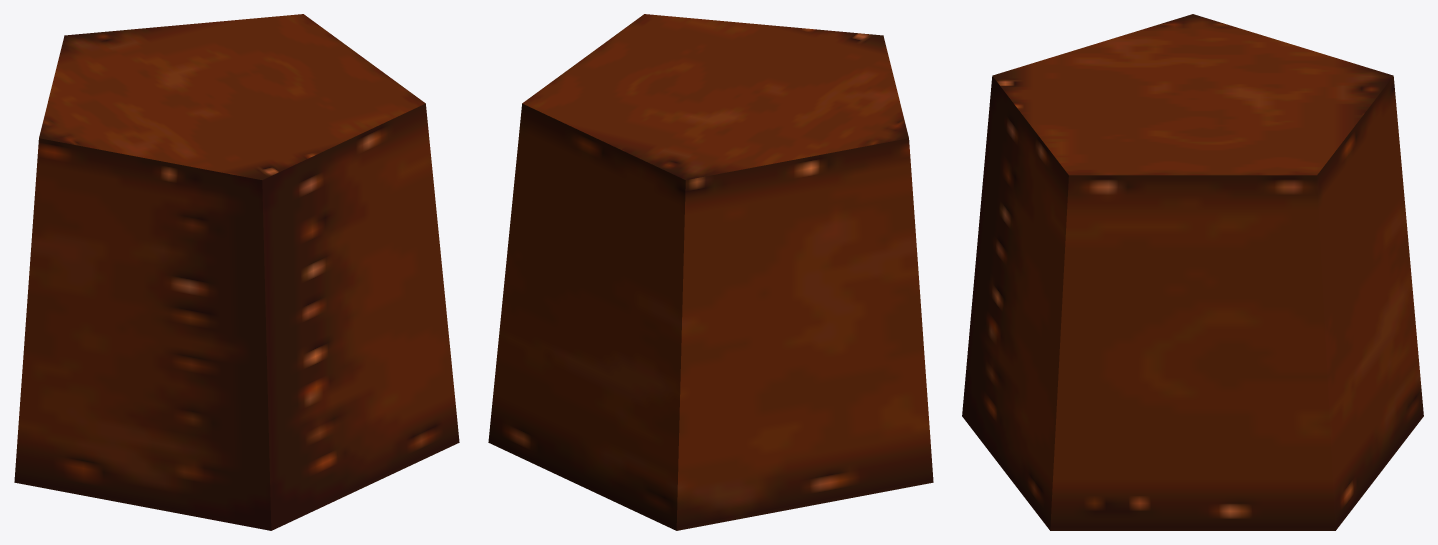
The model's file is Statue_Pan_Sockel_2793.glb.
The picture shows the model from 3 angles, left to right: view 1: azimuth 30°, elevation 25°; view 2: azimuth 150°, elevation 25°; view 3: azimuth 270°, elevation 25°; orthographic projection.
Parts seen in each view (by area): view 1: pCylinderShape22; view 2: pCylinderShape22; view 3: pCylinderShape22.
Boxes of the visible parts, box(x1,y1,x2,y2) form: pCylinderShape22: box(14, 14, 459, 530); pCylinderShape22: box(488, 14, 933, 530); pCylinderShape22: box(962, 14, 1423, 530).
Bounding box in the file's own units: 0.2856 × 0.2464 × 0.3003.
1 material, 1 textured.
